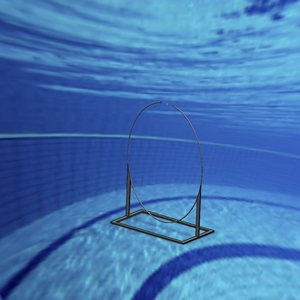circle: (110, 100, 214, 244)
